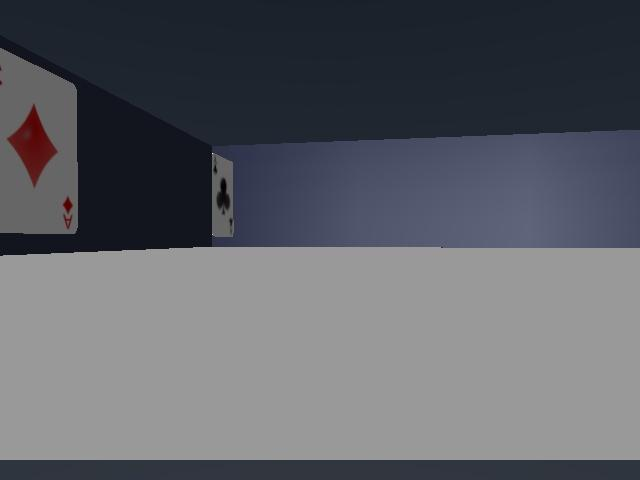club: (212, 153, 234, 236)
diamond: (0, 49, 77, 233)
